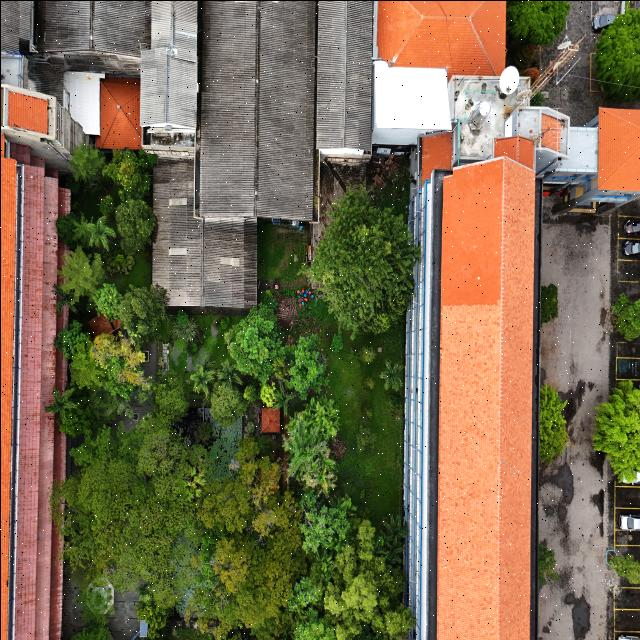Tree: (308, 197, 426, 339), (222, 302, 284, 388), (117, 280, 162, 344), (113, 195, 158, 254), (607, 290, 640, 345)
